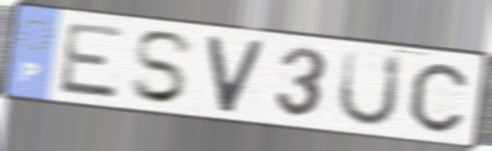3: (271, 45, 330, 120)
C: (407, 60, 470, 135)
E: (55, 20, 129, 102)
S: (128, 28, 198, 107)
U: (334, 48, 405, 129)
V: (204, 33, 269, 116)
